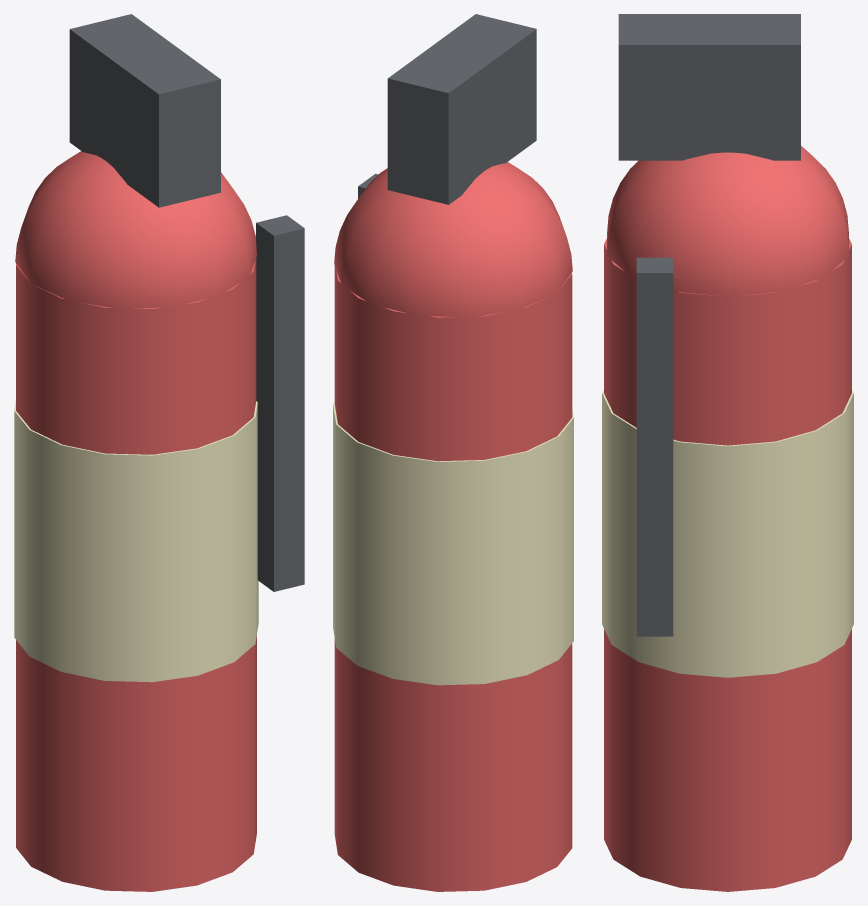
The model's file is fire_extinguisher.glb.
3 renders of one model, left to right at view 1: azimuth 30°, elevation 25°; view 2: azimuth 150°, elevation 25°; view 3: azimuth 270°, elevation 25°, orthographic. The views are drawn at different scales.
Parts seen in each view (by area): view 1: fire_extinguisher; view 2: fire_extinguisher; view 3: fire_extinguisher.
Part boxes in pixels (box(x1,y1,x2,y2)): fire_extinguisher: box(14, 14, 304, 891); fire_extinguisher: box(333, 14, 573, 891); fire_extinguisher: box(602, 14, 853, 891).
Bounding box in the file's own units: 0.149 × 0.49 × 0.138.
